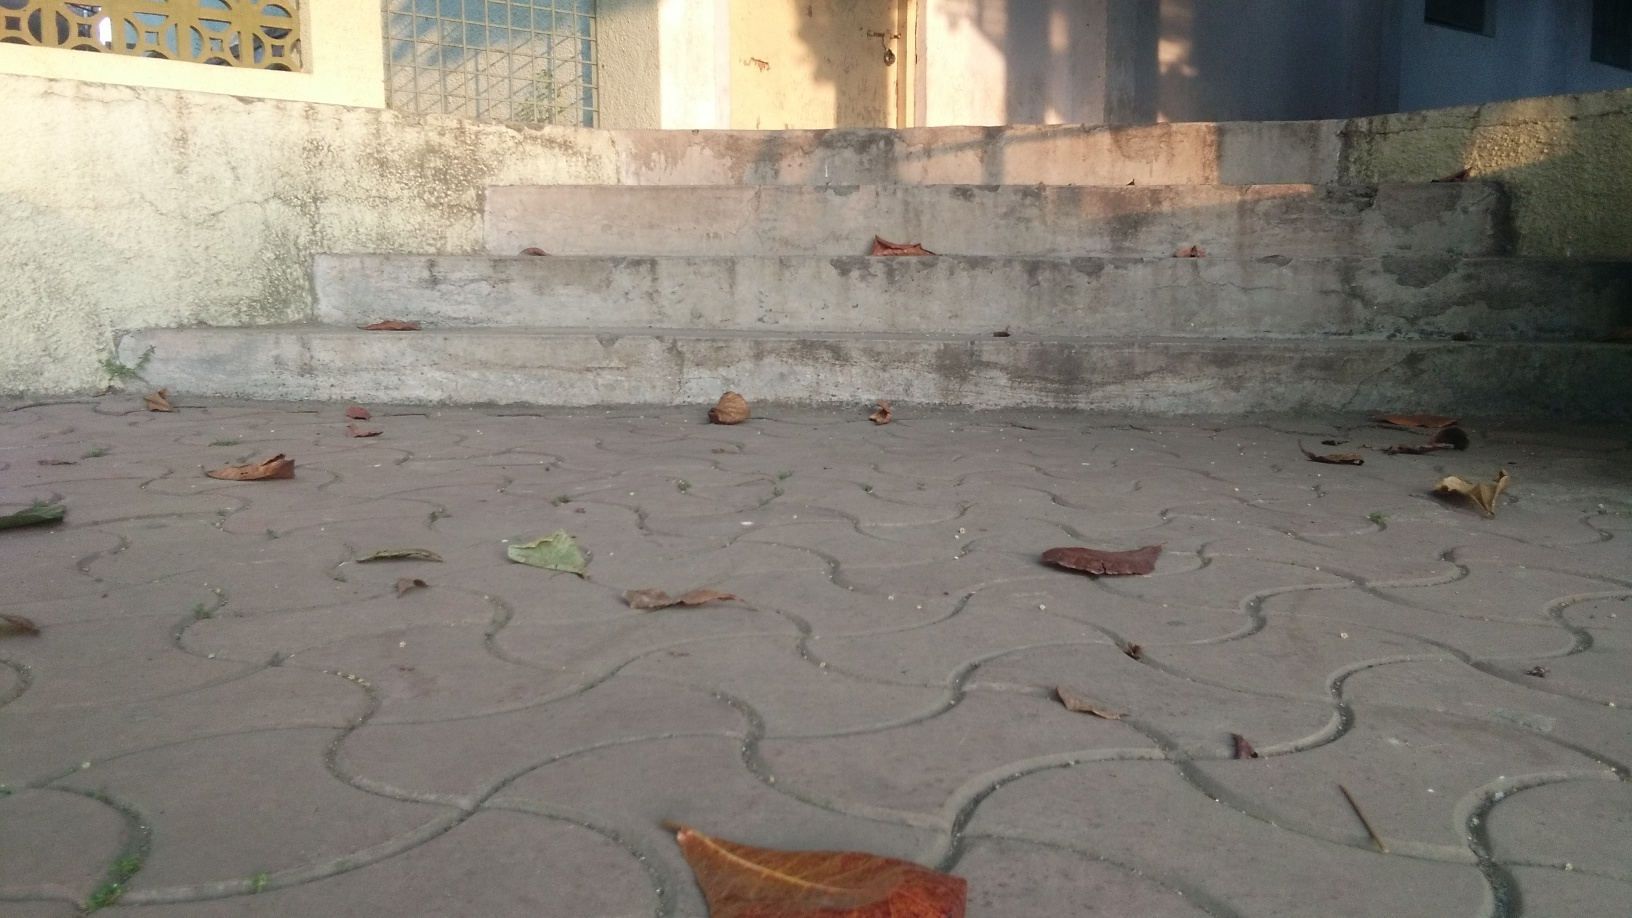stairs_up: (81, 123, 1632, 448)
